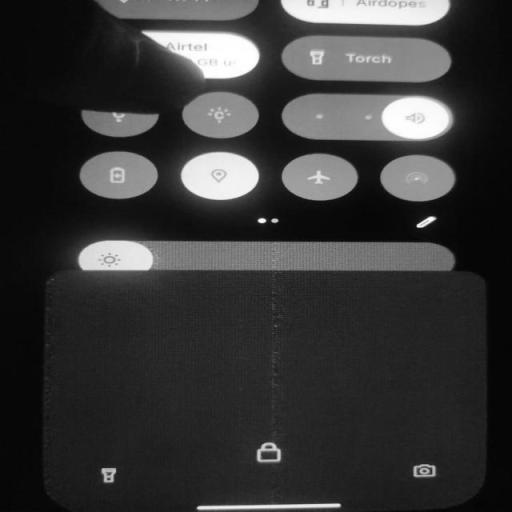phone: (31, 4, 491, 511)
